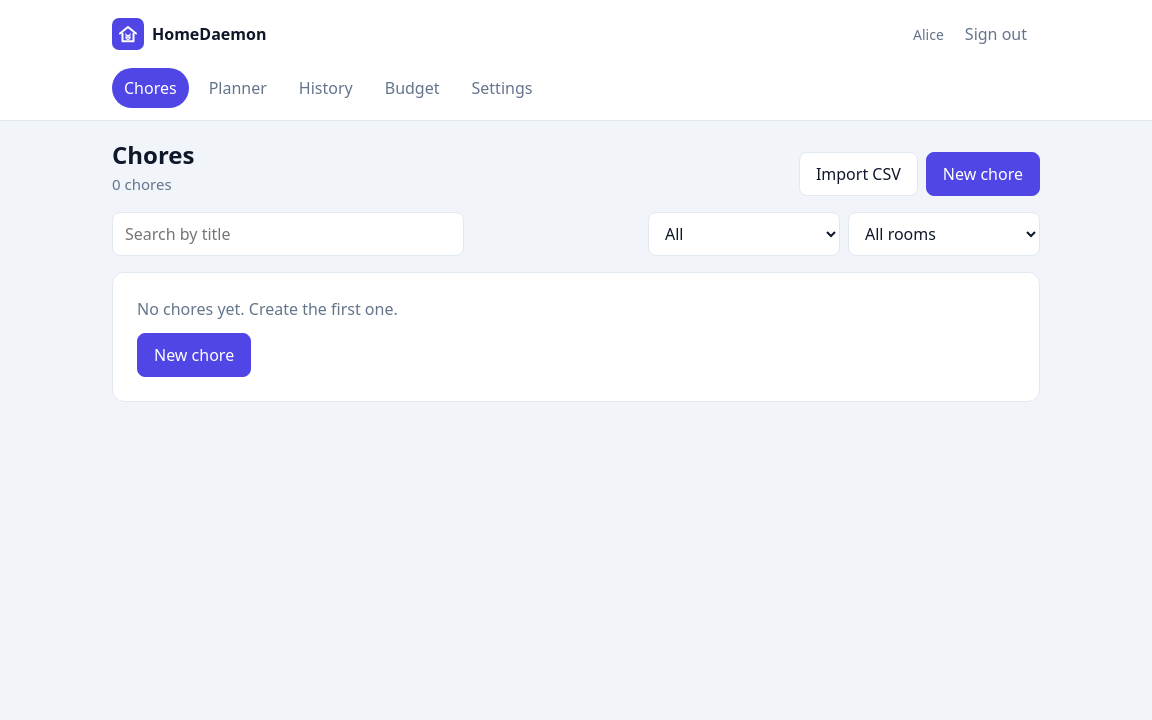
Test case: signing out › returns to the sign-in screen
Click the button "Sign out" at (996,34), box [952,12,1040,56]
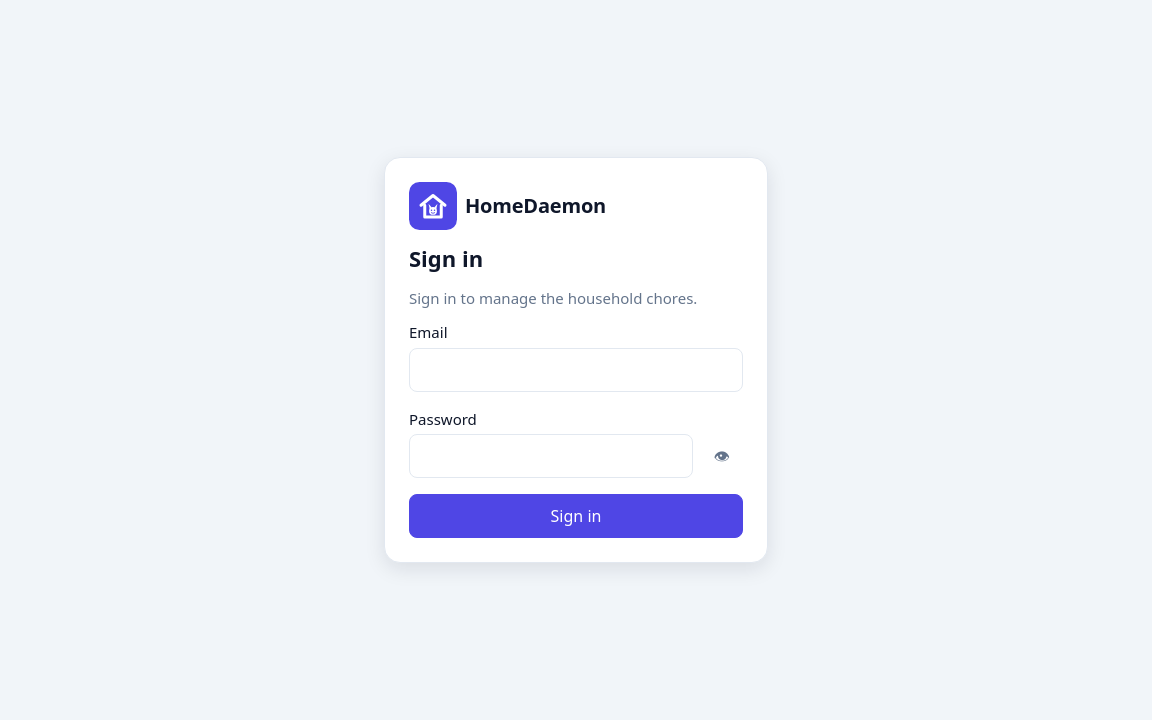
Expected: the button "Sign in" is shown, [409,494,743,538]
Expected: the button "Sign out" is gone
